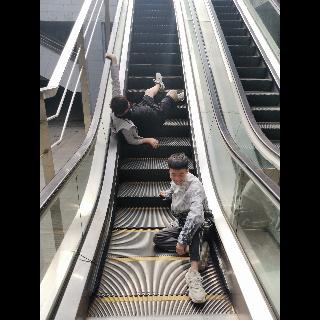anomaly: (146, 151, 217, 305), (102, 54, 186, 152)
